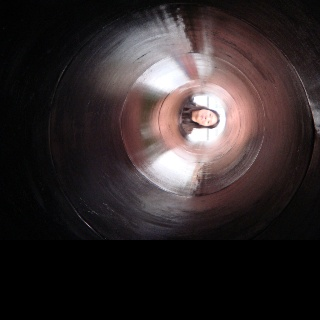without_mask: (195, 109, 218, 126)
